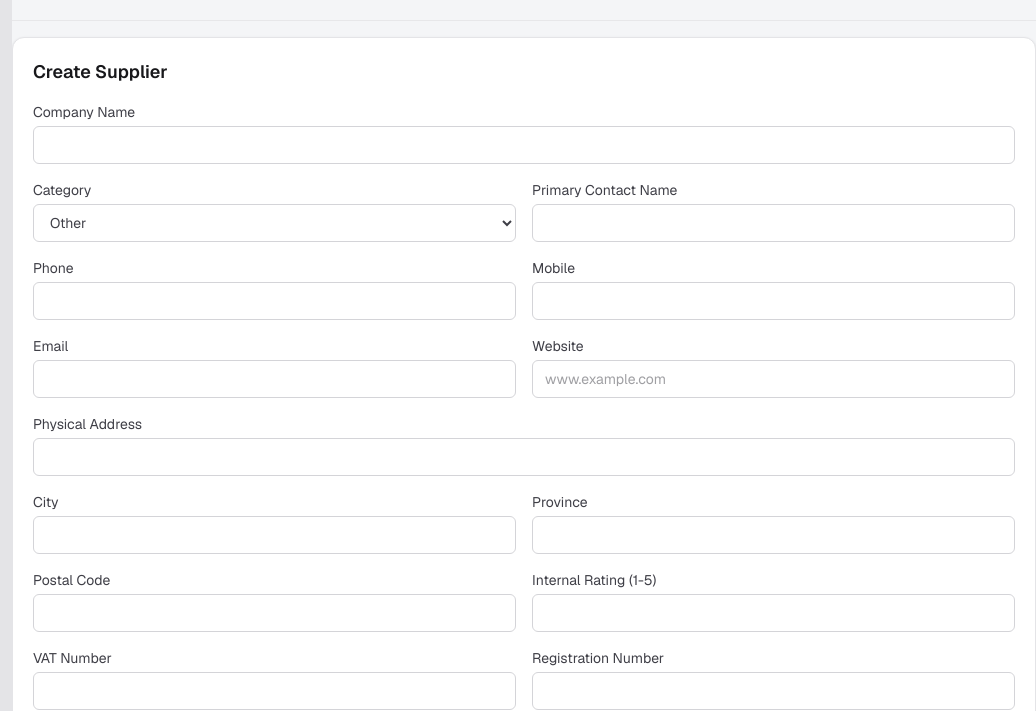
Test case: NewSupplierPage › shows clear validation message for invalid website
This screenshot has width=1036, height=711.
Type "Invalid Website Supplier" into the field labelled "Company Name". click: (524,144)
box: top-left (33, 126), bottom-right (1015, 164)
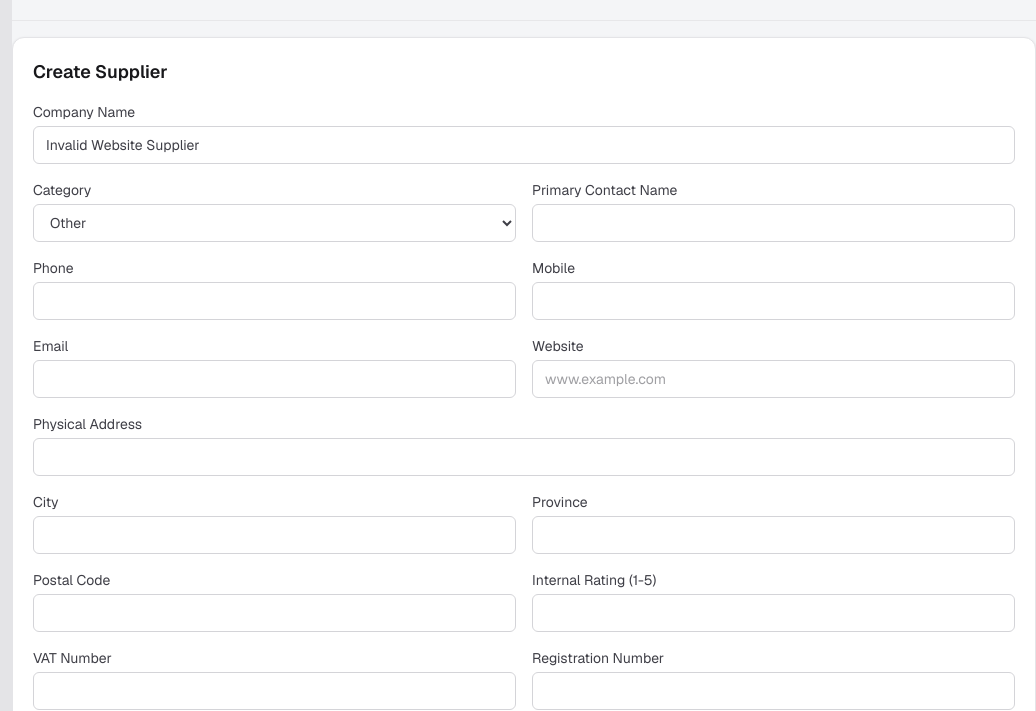
Type "not a url" into the field labelled "Website". click: (774,378)
box: top-left (532, 360), bottom-right (1015, 398)
(page scrolled)
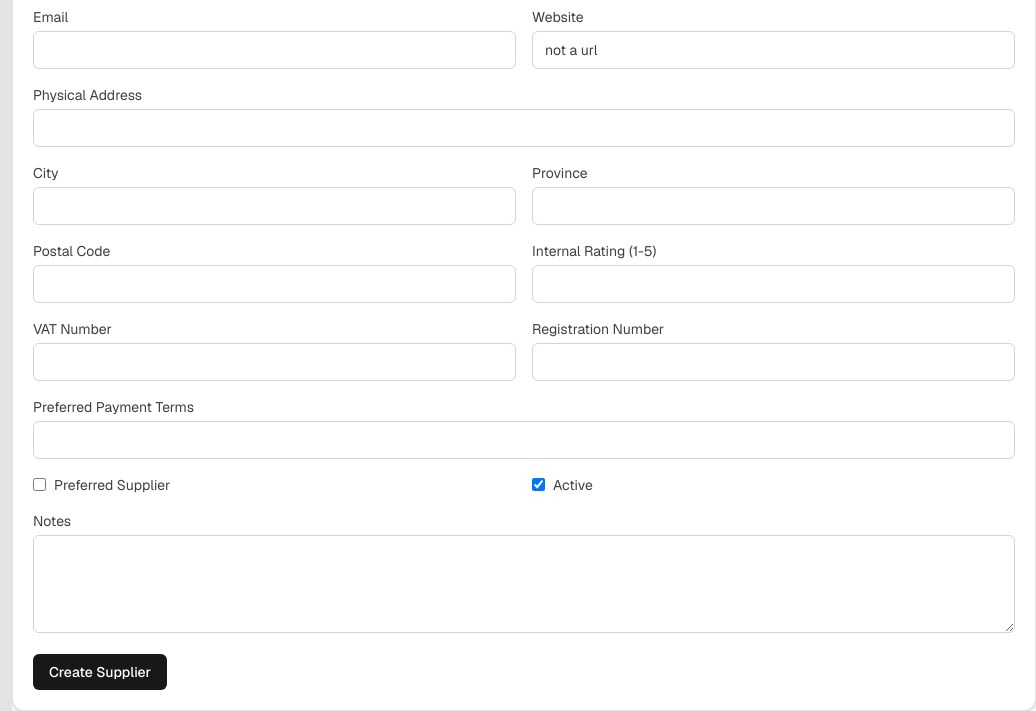
Click the button "Create Supplier". click: (100,672)
box: top-left (33, 654), bottom-right (167, 690)
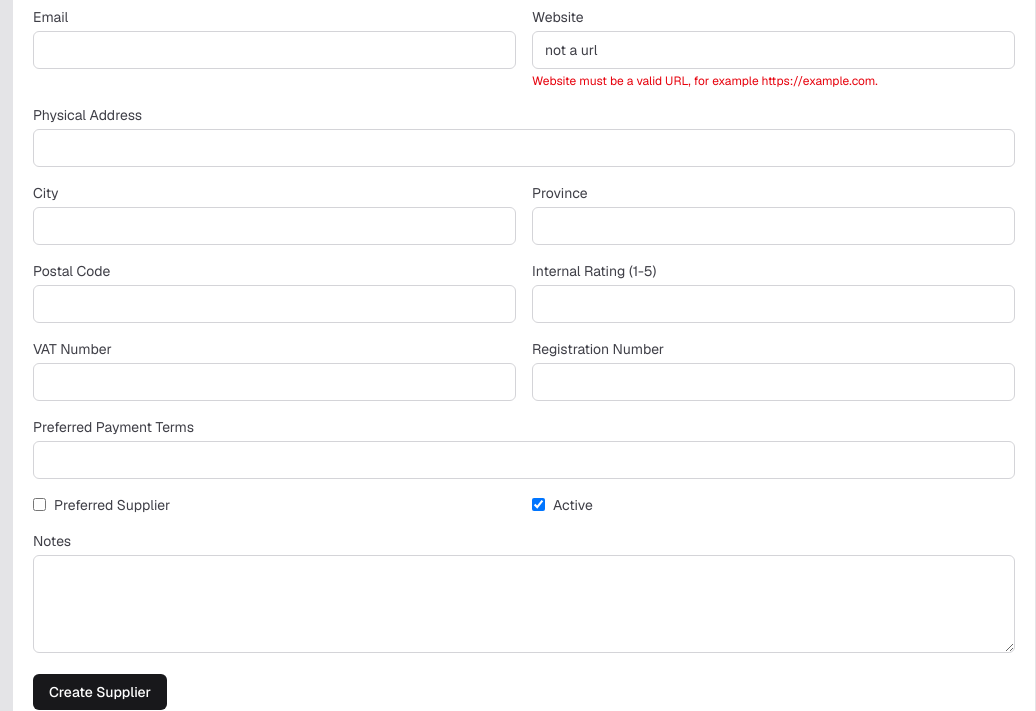
Expected: the text "Website must be a valid URL, for example https://example.com." is shown, top-left (532, 72), bottom-right (878, 88)
